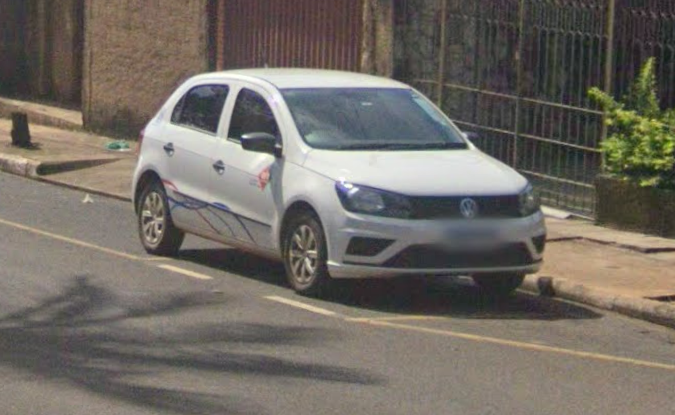car: (130, 65, 550, 308)
